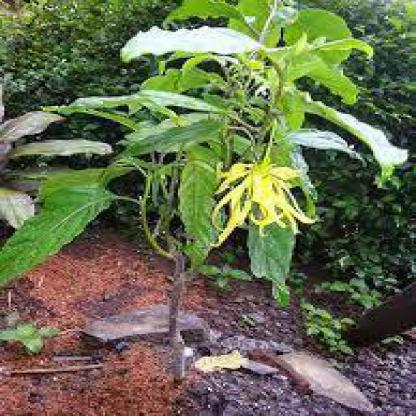Kenanga: (231, 155, 304, 232)
